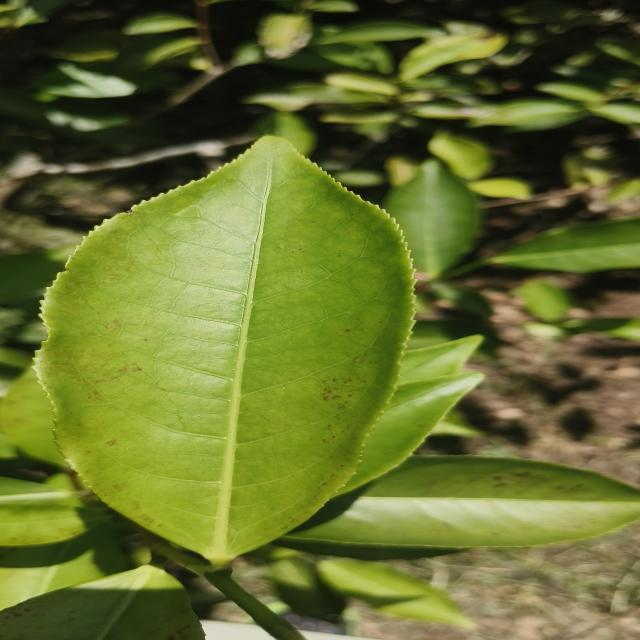Leaf: (38, 137, 413, 565), (286, 455, 640, 548), (339, 372, 482, 493), (0, 565, 204, 640), (382, 159, 482, 279), (316, 559, 474, 628), (484, 218, 640, 273), (267, 552, 346, 627), (399, 33, 506, 81), (0, 506, 125, 546), (469, 100, 587, 130), (427, 130, 493, 180), (318, 20, 437, 44), (257, 13, 312, 59), (514, 279, 570, 322), (122, 12, 196, 35), (468, 178, 531, 199)
